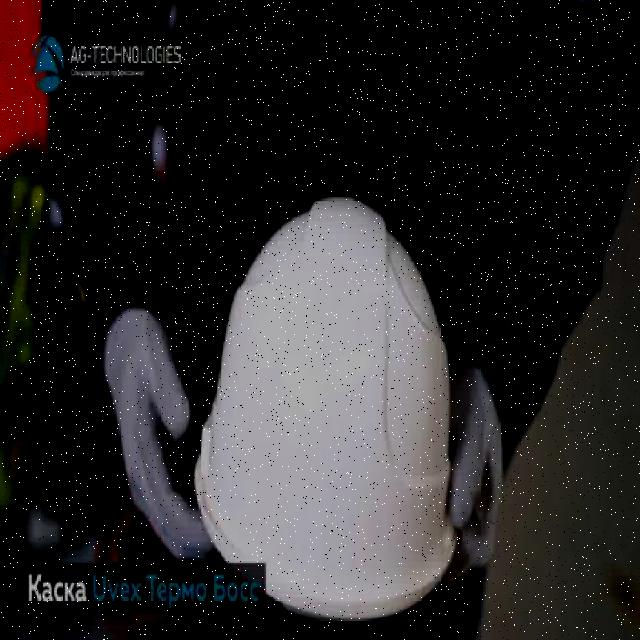Gloves: (99, 303, 215, 568), (443, 359, 506, 592)
Helmet: (192, 193, 460, 624)
